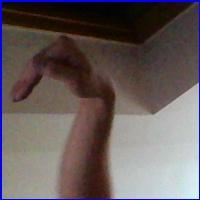del: (8, 34, 131, 132)
